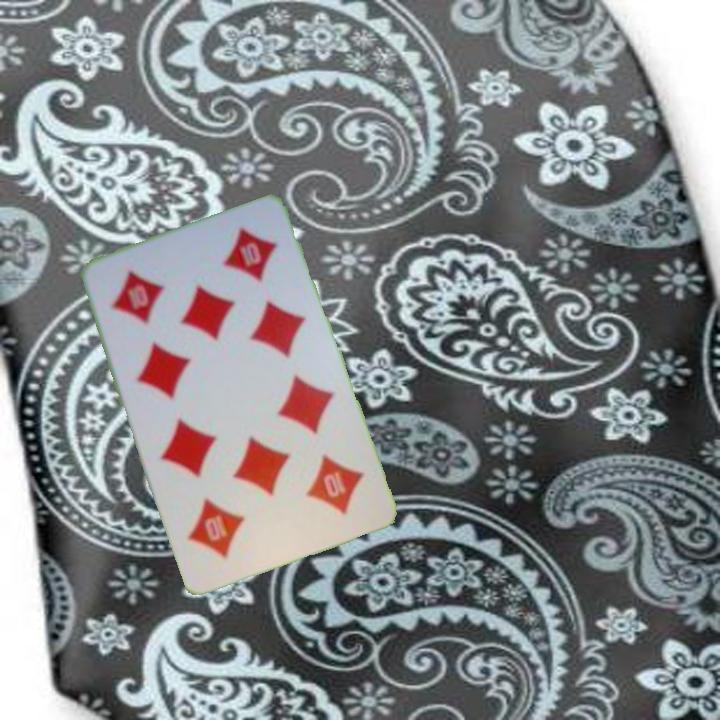d_10.png: (92, 242, 213, 355), (260, 433, 381, 546)
